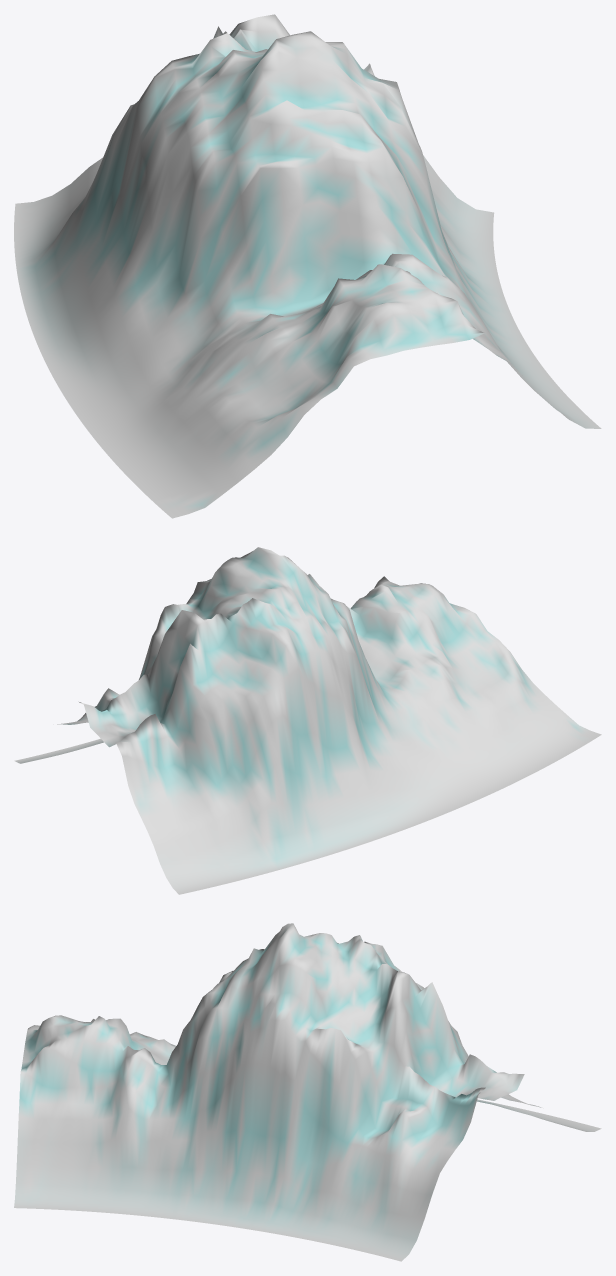
The model's file is far_1.glb.
3 views of the same model, one above another, from view 1: azimuth 30°, elevation 25°; view 2: azimuth 150°, elevation 25°; view 3: azimuth 270°, elevation 25° (orthographic). The views are drawn at different scales.
Parts seen in each view (by area): view 1: Mountain; view 2: Mountain; view 3: Mountain.
Boxes of the visible parts, left/top/right/bottom form: Mountain: left=14, top=14, right=601, bottom=518; Mountain: left=14, top=547, right=601, bottom=894; Mountain: left=14, top=923, right=601, bottom=1261.
Size of the model in its own units: 1338 by 682 by 1575.
